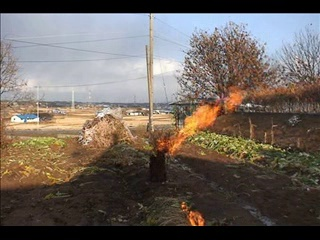fire: (155, 108, 198, 153), (198, 88, 244, 126), (179, 196, 212, 225)
